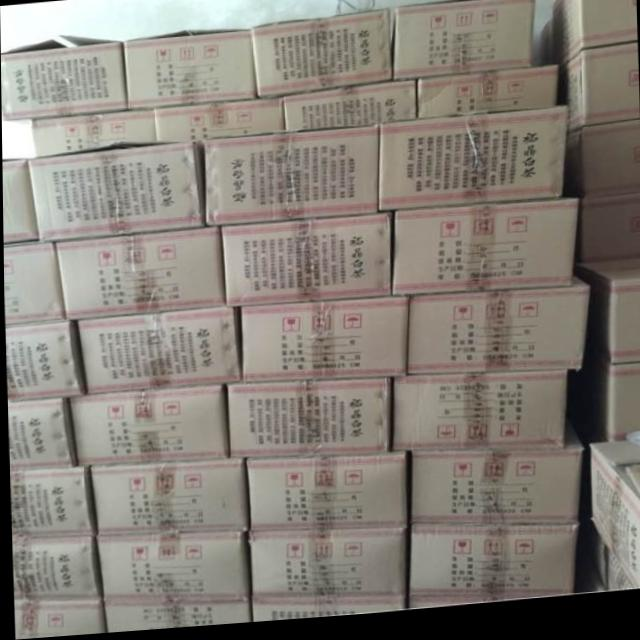box: (377, 115, 566, 216), (391, 204, 578, 301), (406, 283, 589, 381), (203, 130, 378, 230), (28, 145, 203, 242), (221, 218, 390, 311), (54, 229, 224, 320), (410, 446, 584, 531), (238, 302, 407, 386), (76, 309, 238, 393), (392, 379, 566, 457), (227, 385, 391, 462), (250, 14, 393, 102), (246, 457, 405, 536), (87, 458, 245, 537), (64, 388, 224, 466), (409, 530, 576, 602), (393, 1, 534, 85), (96, 534, 244, 606), (1, 36, 127, 120), (248, 534, 404, 601), (124, 32, 256, 111), (588, 447, 640, 598), (574, 265, 640, 373), (417, 74, 558, 124), (565, 51, 639, 142), (550, 0, 637, 75), (283, 87, 416, 136), (4, 322, 83, 401), (8, 467, 93, 540), (153, 100, 286, 146), (10, 538, 98, 604), (30, 111, 156, 157), (3, 240, 64, 325), (6, 396, 76, 469), (580, 128, 640, 206), (103, 605, 246, 634), (578, 202, 640, 268), (251, 598, 402, 625), (12, 604, 99, 640), (2, 158, 37, 242), (604, 374, 640, 450), (593, 545, 637, 599), (409, 602, 570, 615)
